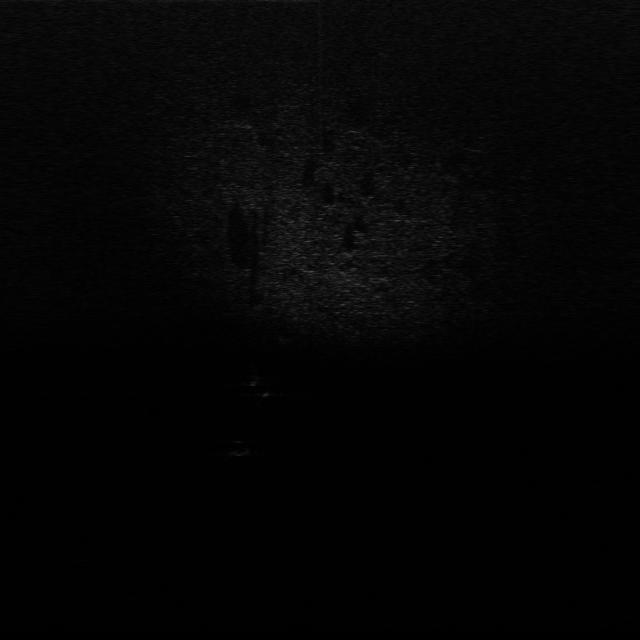ball: (224, 439, 252, 458)
human body: (246, 362, 276, 408)
